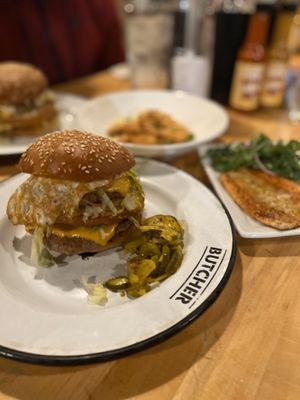pizza: (122, 1, 178, 89)
sushi: (73, 87, 231, 161)
